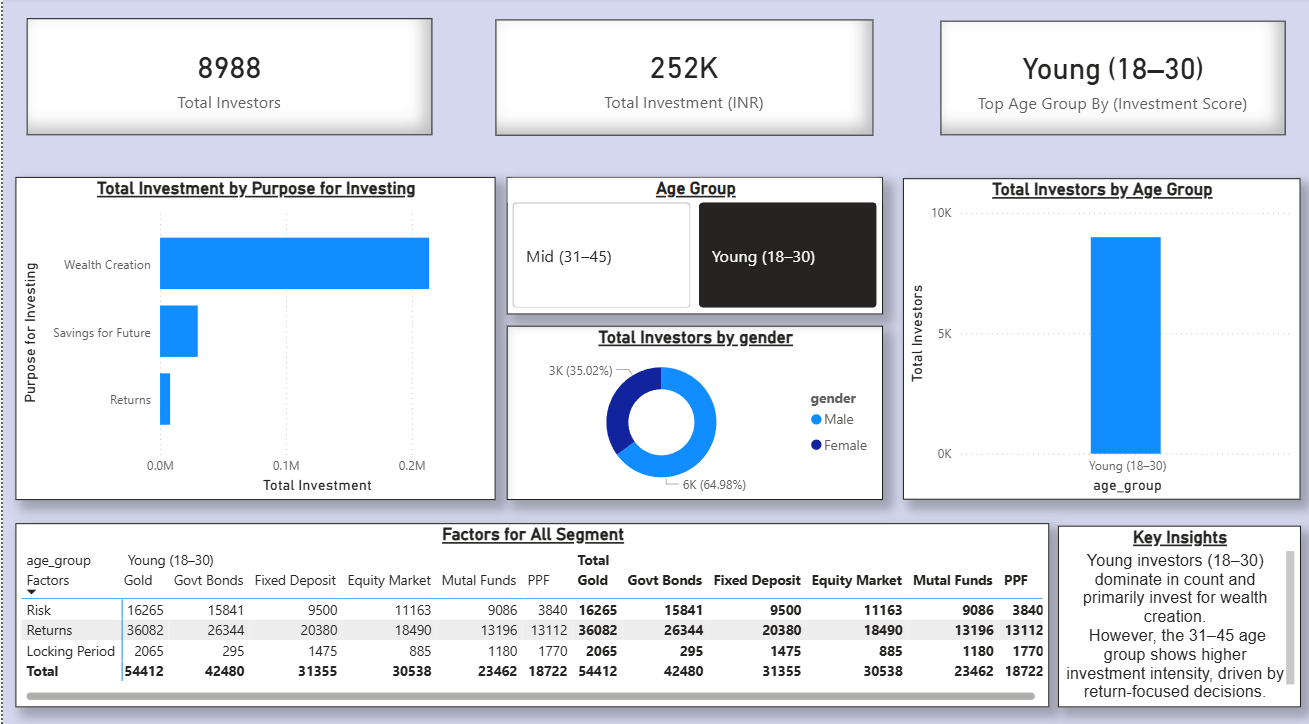

This screenshot's page, from the dashboard's own definition file:
{"tool":"powerbi","page":{"name":"Page 1","canvas":[1280,720],"ordinal":0},"visuals":[{"type":"card","fields":{"Values":["CountNonNull(finance_db finance_trends_enriched.gender)"]},"box":[22.6,20.3,396.9,114.4],"z":0},{"type":"card","fields":{"Values":["Sum(finance_db finance_trends_enriched.total_investment_score)"]},"box":[481.6,21.5,369.5,113.2],"z":1000},{"type":"card","fields":{"Values":["finance.Top Age Group"]},"box":[916.7,22.6,337.3,112.1],"z":2000},{"type":"donutChart","fields":{"Category":["finance.gender"],"Y":["finance.Total Investors"]},"box":[492.3,321.8,368.3,170.5],"z":3000},{"type":"clusteredColumnChart","title":"Total Investors by Age Group","fields":{"Category":["finance.age_group"],"Y":["finance.Total Investors"]},"box":[880.9,177.6,388.6,314.7],"z":4000},{"type":"pivotTable","title":"Factors for All Segment","fields":{"Rows":["finance.factor"],"Values":["Sum(finance.gold)","Sum(finance.government_bonds)","Sum(finance.fixed_deposits)","Sum(finance.equity_market)","Sum(finance.mutual_funds)","Sum(finance.ppf)"],"Columns":["finance.age_group"]},"box":[11.9,517.3,997.7,180],"z":5000},{"type":"clusteredBarChart","fields":{"Category":["finance.purpose"],"Y":["Sum(finance.total_investment_score)"]},"box":[11.9,176.4,469.7,315.9],"z":6000},{"type":"advancedSlicerVisual","title":"Age Group","fields":{"Values":["finance.age_group"]},"box":[492.3,176.4,368.3,134.7],"z":7000},{"type":"textbox","title":"Key Insights","box":[1024,517.3,245.6,177.6],"z":8000}]}

Visuals, with their boxes in screenshot pixels (x1, y1, x2, y2), scaled from the page's 1280x720 canvas onto the 1309x724 screenshot:
card - CountNonNull(finance_db finance_trends_enriched.gender): bbox=(23, 20, 429, 135)
card - Sum(finance_db finance_trends_enriched.total_investment_score): bbox=(493, 22, 870, 135)
card - finance.Top Age Group: bbox=(937, 23, 1282, 135)
donutChart - finance.gender x finance.Total Investors: bbox=(503, 324, 880, 495)
"Total Investors by Age Group" clusteredColumnChart: bbox=(901, 179, 1298, 495)
"Factors for All Segment" pivotTable: bbox=(12, 520, 1032, 701)
clusteredBarChart - finance.purpose x Sum(finance.total_investment_score): bbox=(12, 177, 493, 495)
"Age Group" advancedSlicerVisual: bbox=(503, 177, 880, 313)
"Key Insights" textbox: bbox=(1047, 520, 1298, 699)
